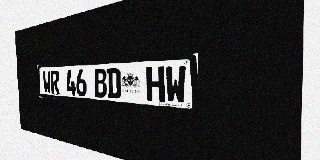4: (66, 70, 76, 95)
6: (75, 69, 87, 96)
B: (94, 68, 107, 98)
D: (107, 68, 121, 99)
H: (146, 66, 165, 102)
R: (50, 70, 60, 94)
W: (165, 65, 186, 104), (43, 71, 51, 94)
